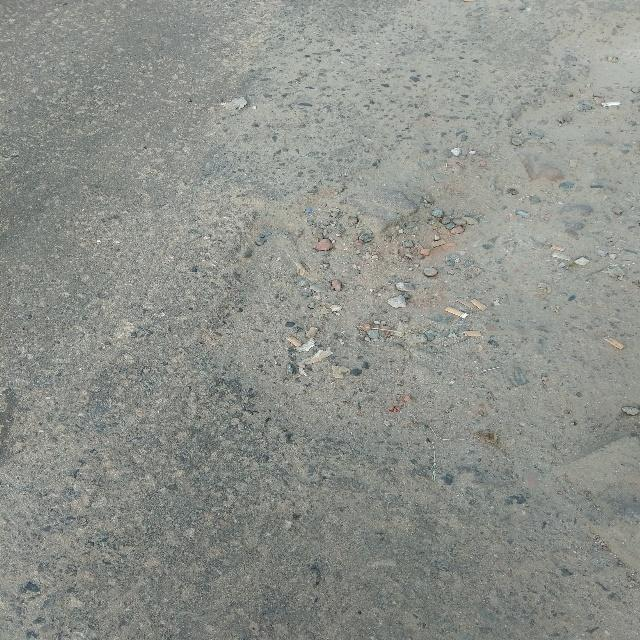Surface Erosion: (139, 68, 640, 575)
